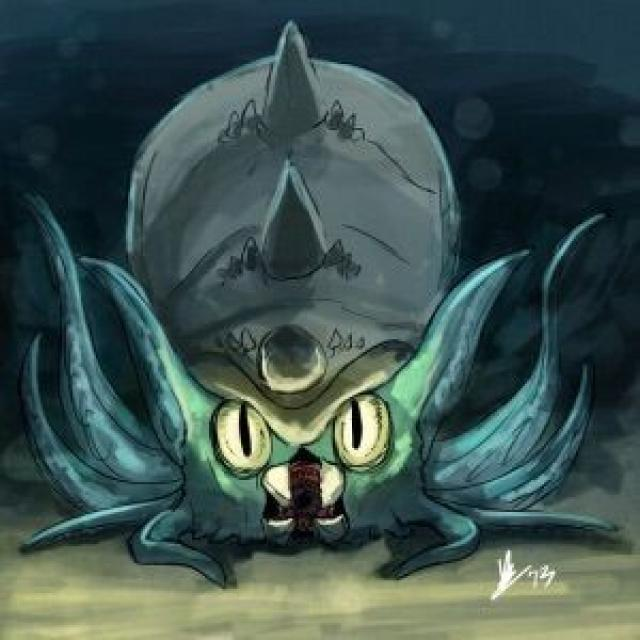Omastar: (20, 26, 537, 548)
